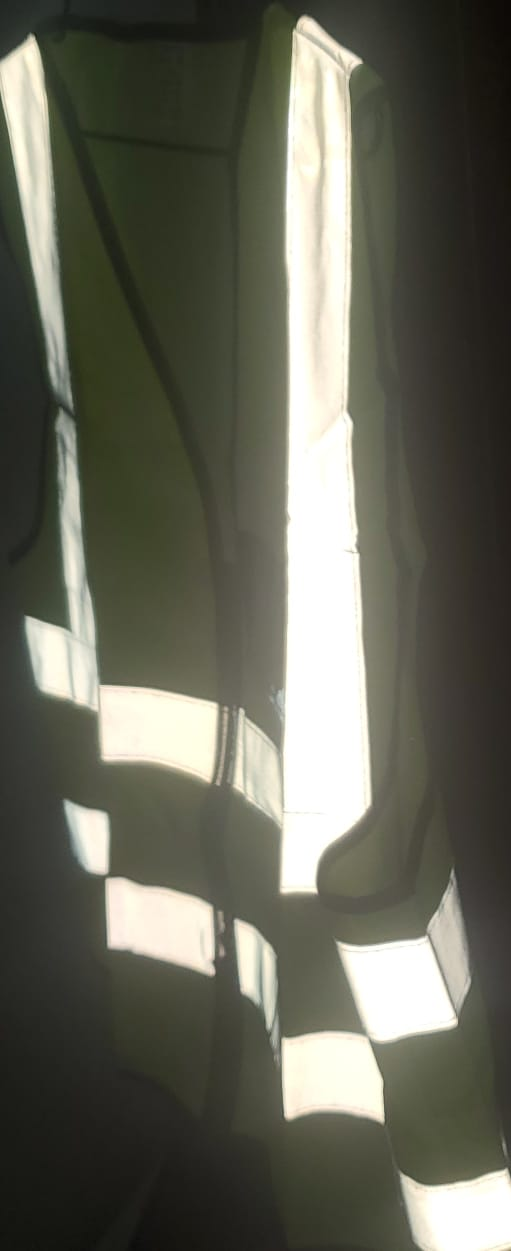vest: (8, 28, 511, 1251)
